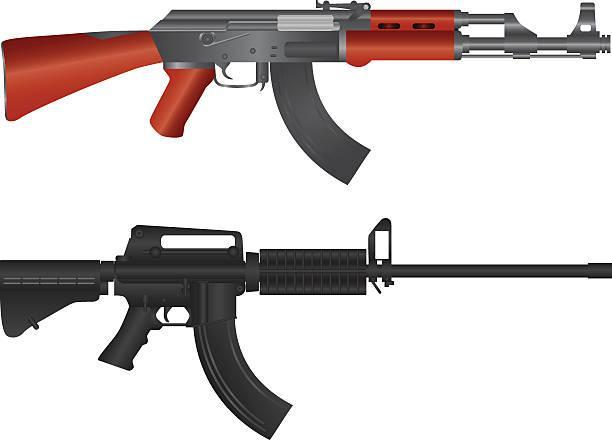larga: (0, 217, 612, 440), (0, 0, 612, 186)
